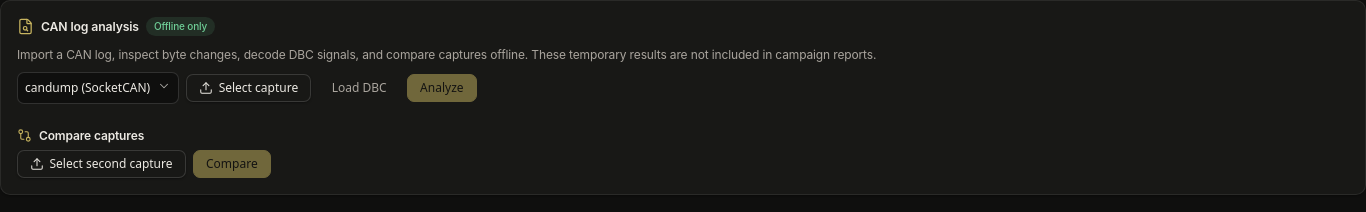
Test: discards a late decode after the selected capture changes
Click the button "Select capture".
click(249, 88)  # box 186,74 -> 311,102
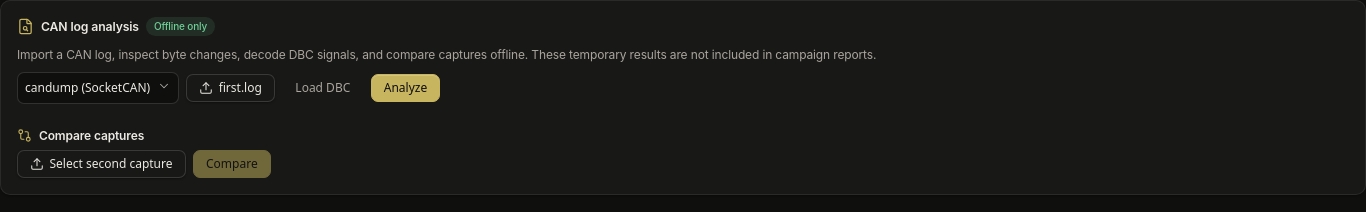
Click the button "Analyze".
click(406, 88)  # box 370,74 -> 440,102
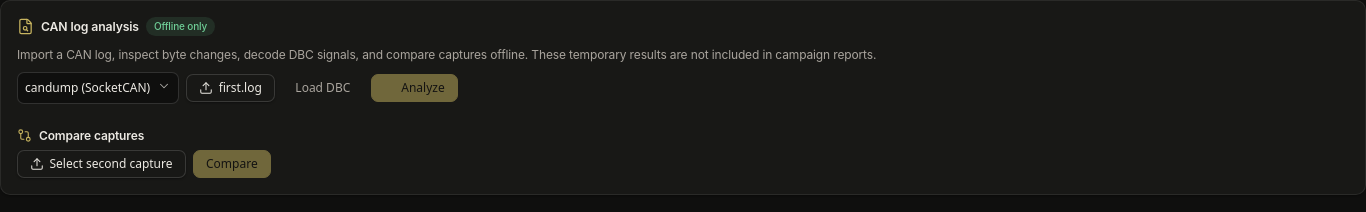
Click the button "first.log".
click(231, 88)  # box 186,74 -> 275,102
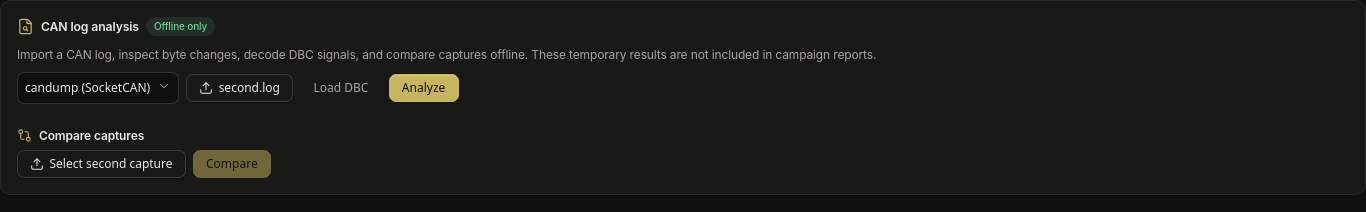
Expected: the button "Analyze" is enabled, 389,74 -> 459,102
